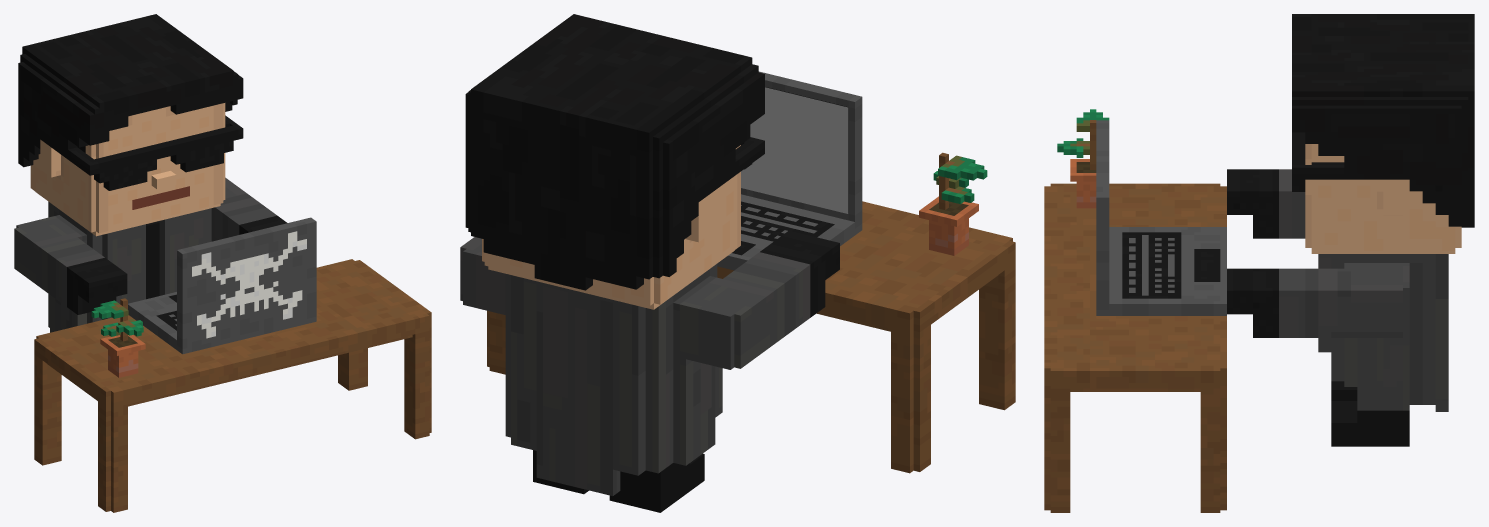
Rendered from VoxelSceneV2Flip.glb.
3 views of the same model, side by side, from view 1: azimuth 30°, elevation 25°; view 2: azimuth 150°, elevation 25°; view 3: azimuth 270°, elevation 25° (orthographic). The views are drawn at different scales.
Parts seen in each view (by area): view 1: Voxel; view 2: Voxel, Screen; view 3: Voxel.
Boxes of the visible parts, x1,y1,x2,y2 form: Voxel: [14, 14, 431, 512]; Voxel: [460, 14, 1015, 512]; Screen: [741, 87, 848, 213]; Voxel: [1044, 14, 1474, 512].
Size of what is drawn, in the model's own units: 6.8 by 6.2 by 6.6.
Materials: 2 (1 with a texture image).
